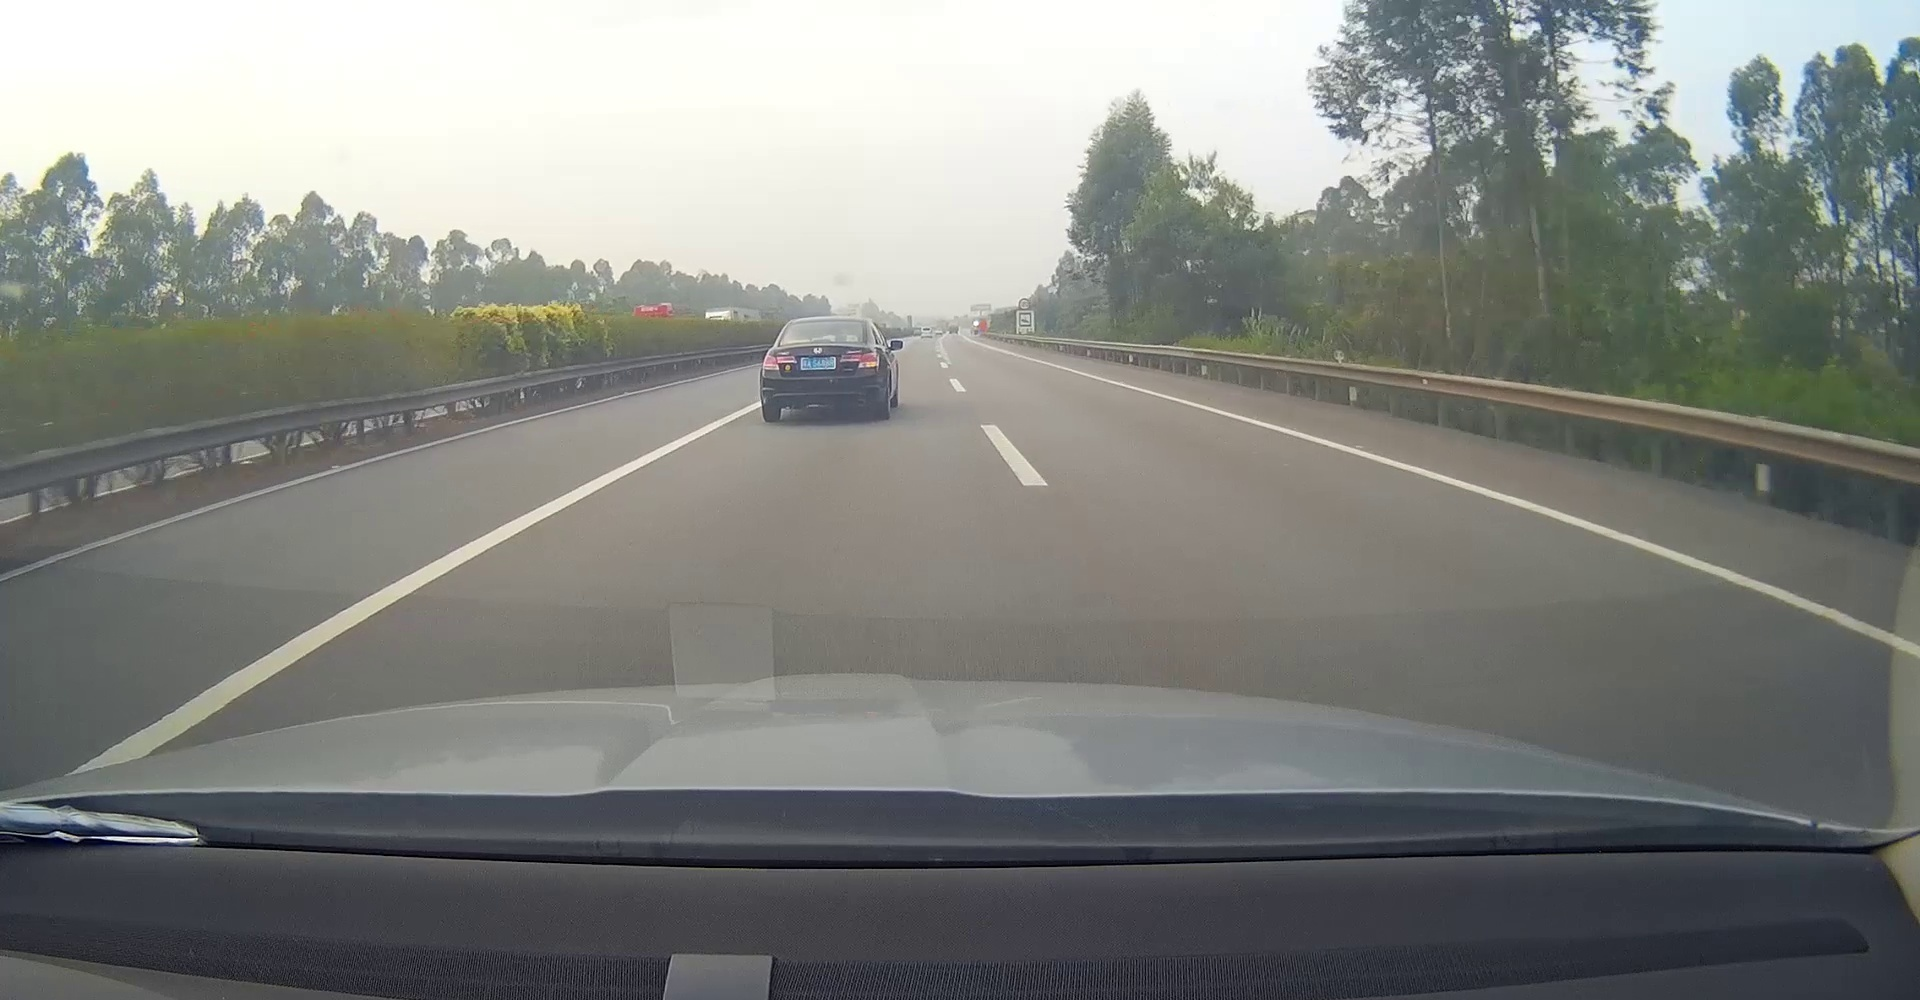L_light: (763, 354, 797, 369)
R_light: (841, 353, 879, 368)
T_light: (819, 321, 837, 325)
day-no: (759, 319, 881, 421)
